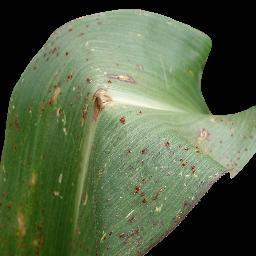Corn_Common_Rust: (0, 144, 46, 256), (161, 128, 206, 242), (33, 7, 104, 62), (132, 159, 160, 256), (207, 113, 254, 166), (73, 86, 116, 124), (96, 219, 133, 256), (94, 61, 144, 85), (1, 104, 22, 140), (62, 64, 94, 85), (51, 166, 69, 203), (45, 76, 60, 115), (116, 110, 146, 124), (61, 102, 70, 140), (122, 146, 151, 156), (80, 189, 93, 209), (25, 62, 44, 72)
